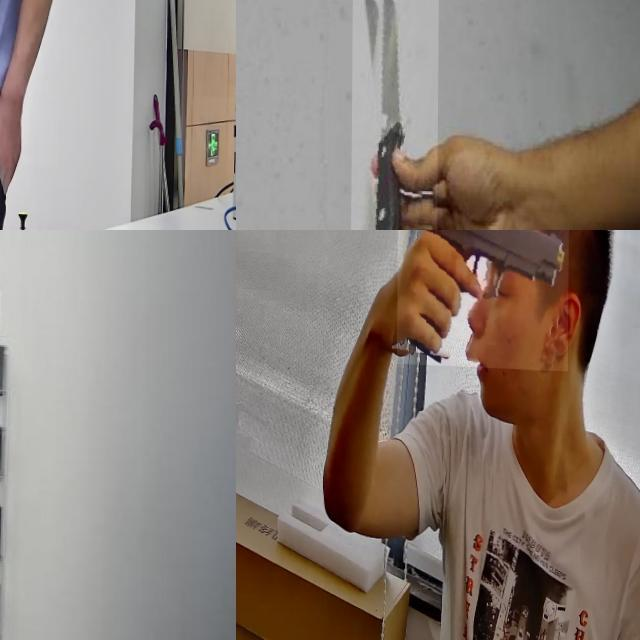-: (351, 0, 439, 230), (0, 365, 19, 488)
gun-knife-thesis - v11 Yolov5 augmented: (397, 230, 569, 367), (0, 0, 26, 147)
